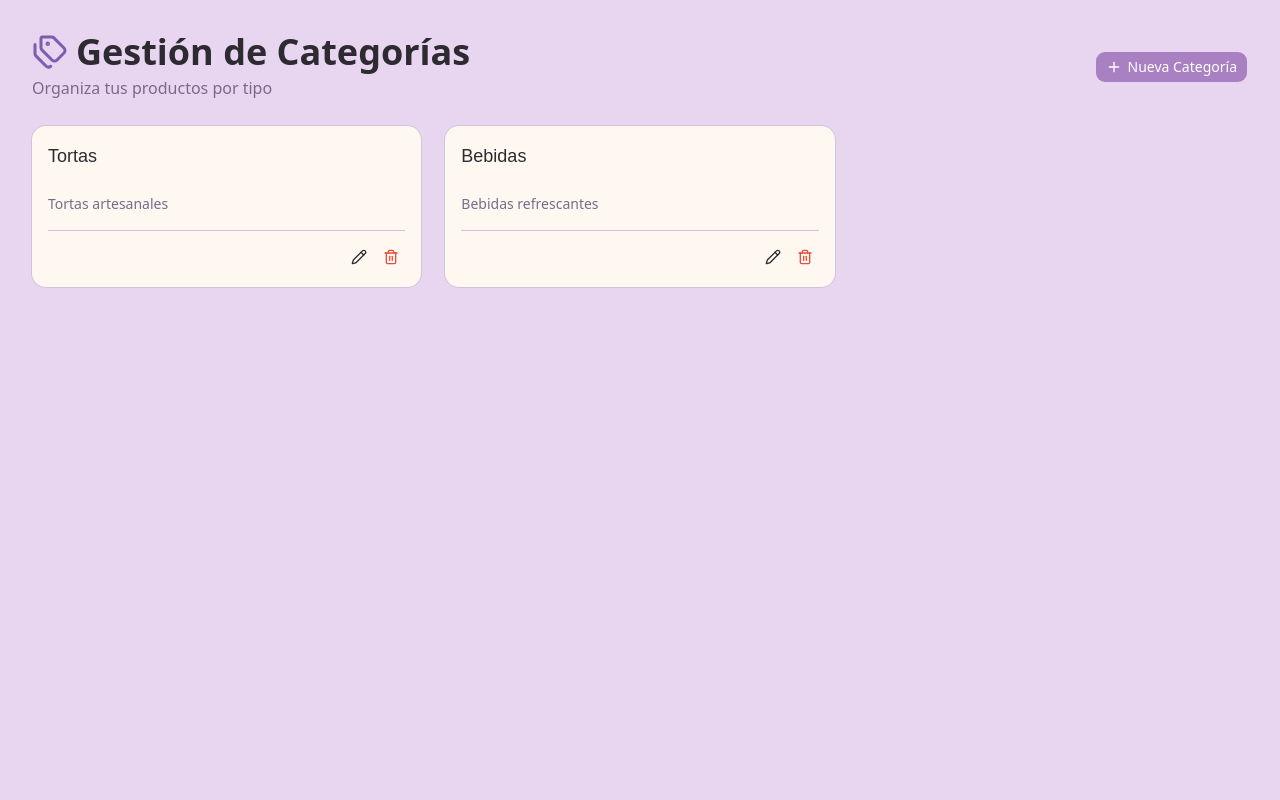
Scenario: Categorias Component › should show validation error when nombre is empty on create
The width and height of the screenshot is (1280, 800).
Expected: the text "Tortas" is shown, [48,142,97,170]
Click the button "Nueva Categoría".
click(1171, 67)  # box [1094,51,1248,83]
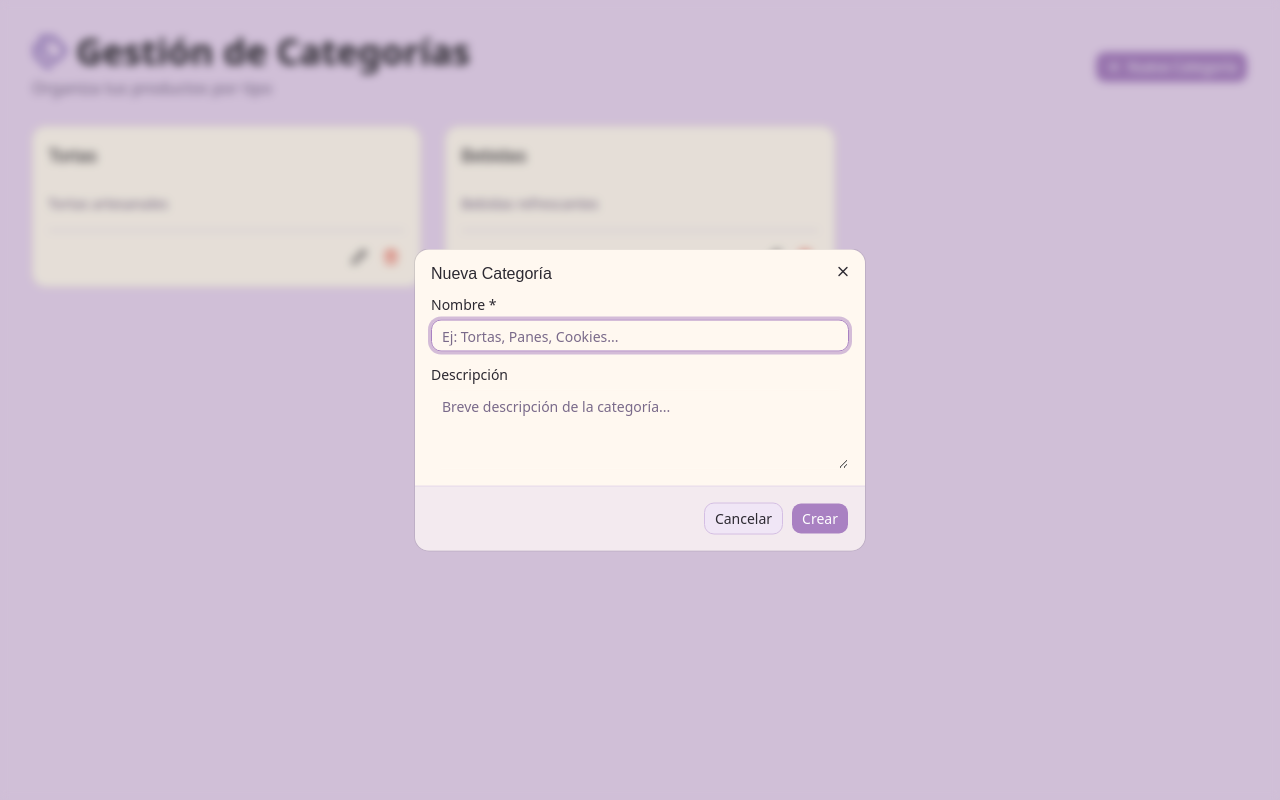
Expected: the heading "Nueva Categoría" is shown, [431,264,552,282]
Click submit with empty nombre
Click the button "Crear".
click(820, 518)  # box [791,502,849,534]
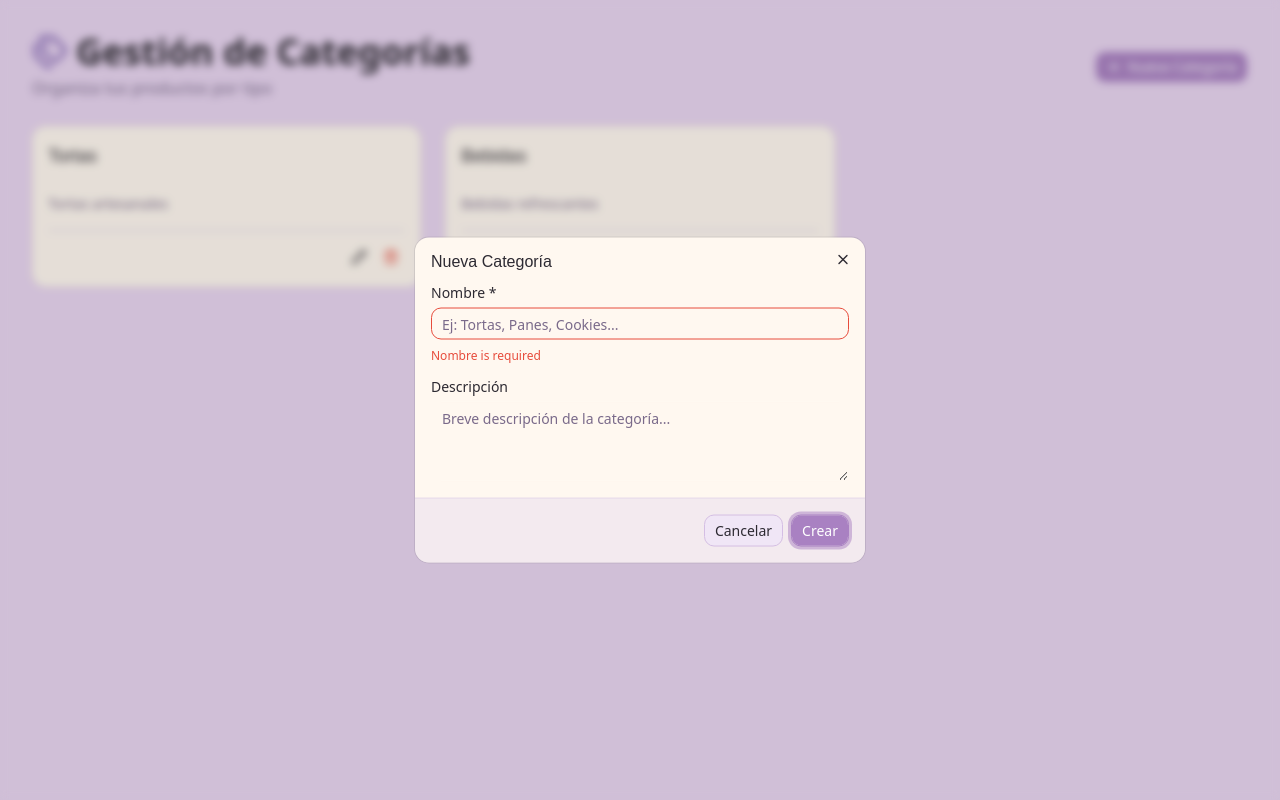
Expected: the text "Nombre is required" is shown, [431,346,541,364]
